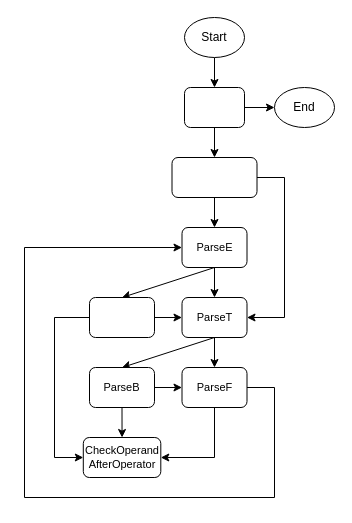
The diagram is 352 pixels wide and 523 high, and some of its shapes have lost their labels. The centre of each missing label's shape, as x and y in pixels:
Parse: the point at 214,107
ParseA: the point at 121,317
ParseExpression: the point at 214,177
